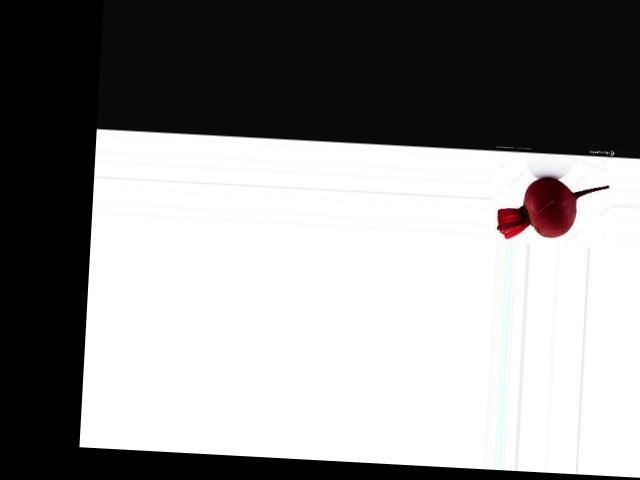beet: (495, 174, 608, 243)
